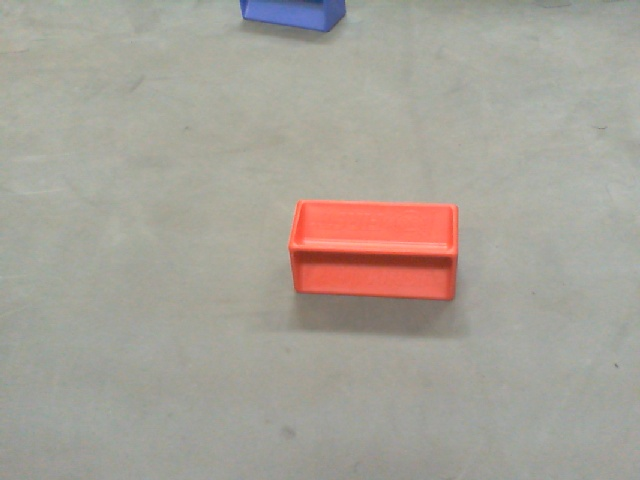BlueSample: (236, 1, 347, 33)
RedSample: (290, 200, 462, 294)
